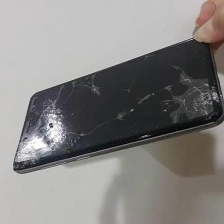phone: (5, 29, 223, 177)
